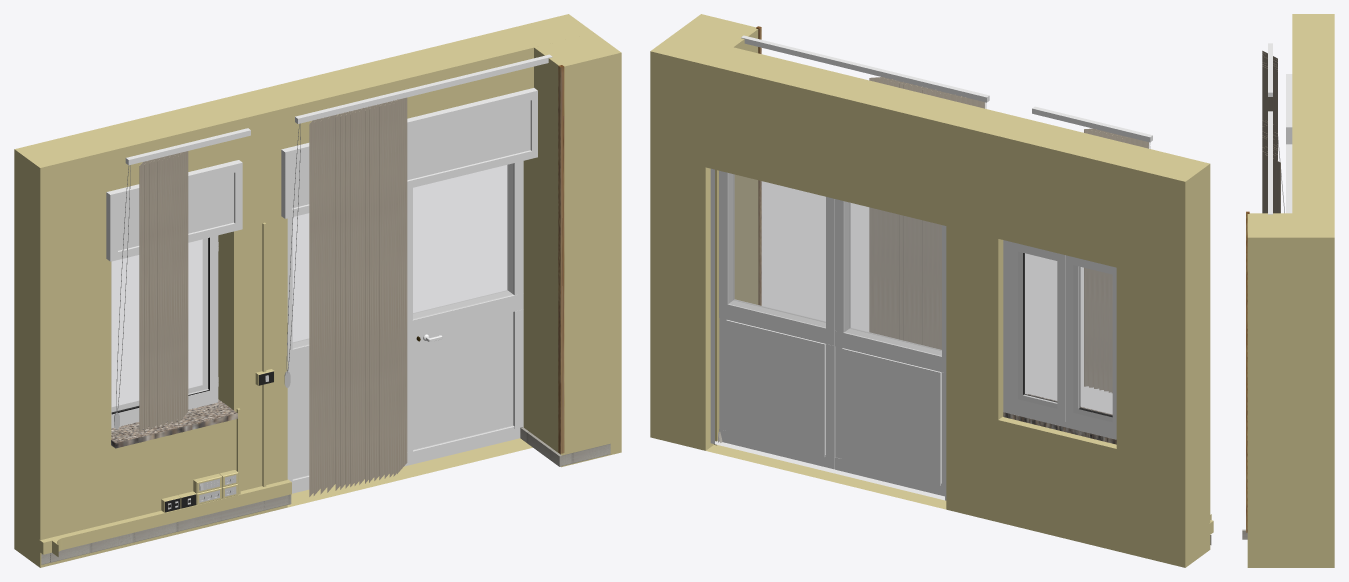
File: pareteavantiintera.gltf
3 renders of one model, left to right at view 1: azimuth 30°, elevation 25°; view 2: azimuth 150°, elevation 25°; view 3: azimuth 270°, elevation 25°, orthographic. The views are drawn at different scales.
Visible parts, largest first — view 1: Parete Avanti Muro, Parete Avanti Estrusione Grande, Porta Finestrata Dx, Cassettone Porta Finestrata, Finestra Cassettone, Porta Finestrata Sx, Finestra Anta Dx, Finestra Anta Sx, Tenda 17 Porta Finestrata, Parete Avanti Copertura Canaline, Parete Avanti Battiscopa, Tenda 3 Porta Finestrata (+31 smaller); view 2: Parete Avanti Muro, Porta Finestrata Dx, Porta Finestrata Sx, Finestra Anta Dx, Finestra Anta Sx, Parete Avanti Estrusione Grande, Porta Finestrata Infisso, Porta Finestrata Struttura Tenda, Finestra Infissi, Tenda 4 Porta Finestrata, Finestra Struttura Tenda, Tenda 17 Porta Finestrata (+8 smaller); view 3: Parete Avanti Estrusione Grande, Parete Avanti Muro, Tenda 9 Finestra, Parete Avanti Estrusione Legno, Tenda 17 Porta Finestrata, Porta Finestrata Struttura Tenda, Finestra Cassettone, Cassettone Porta Finestrata, Finestra Struttura Tenda, Tenda 16 Porta Finestrata.
Part boxes in pixels (x1,y1,x2,y2): Parete Avanti Muro: (14,14,593,567); Parete Avanti Estrusione Grande: (523,33,621,467); Porta Finestrata Dx: (404,161,523,466); Cassettone Porta Finestrata: (281,88,537,218); Finestra Cassettone: (106,160,242,261); Porta Finestrata Sx: (287,213,309,493); Finestra Anta Dx: (188,235,218,409); Finestra Anta Sx: (111,254,139,428); Tenda 17 Porta Finestrata: (397,97,407,473); Parete Avanti Copertura Canaline: (39,479,291,556); Parete Avanti Battiscopa: (41,427,610,564); Tenda 3 Porta Finestrata: (327,114,337,492); Parete Avanti Muro: (650,33,1210,567); Porta Finestrata Dx: (719,170,835,469); Porta Finestrata Sx: (835,199,944,496); Finestra Anta Dx: (1009,241,1065,421); Finestra Anta Sx: (1065,255,1116,434); Parete Avanti Estrusione Grande: (675,14,758,445); Porta Finestrata Infisso: (710,168,946,500); Porta Finestrata Struttura Tenda: (741,35,989,102); Finestra Infissi: (1003,240,1116,439); Tenda 4 Porta Finestrata: (931,91,946,349); Finestra Struttura Tenda: (1032,106,1152,142); Tenda 17 Porta Finestrata: (869,77,883,333); Parete Avanti Estrusione Grande: (1247,213,1320,567); Parete Avanti Muro: (1292,14,1334,567); Tenda 9 Finestra: (1262,66,1277,126); Parete Avanti Estrusione Legno: (1246,211,1249,532); Tenda 17 Porta Finestrata: (1265,155,1280,213); Porta Finestrata Struttura Tenda: (1268,111,1272,214); Finestra Cassettone: (1286,74,1292,144); Cassettone Porta Finestrata: (1286,144,1292,213); Finestra Struttura Tenda: (1268,43,1272,96); Tenda 16 Porta Finestrata: (1262,153,1277,213).
Size of the model in its own units: 4.35 by 3.01 by 0.7617.
13 materials, 4 textured.
